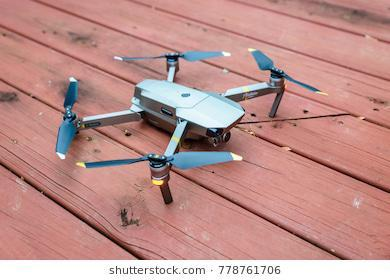drone: (52, 46, 327, 206)
